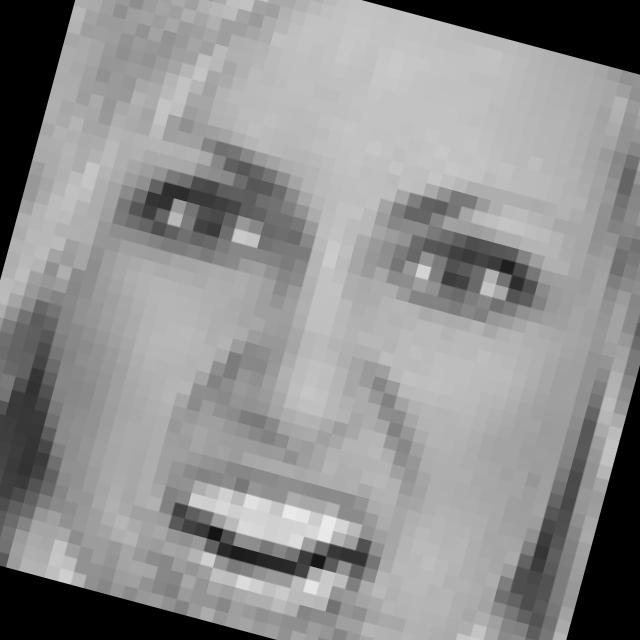angry: (26, 86, 593, 640)
